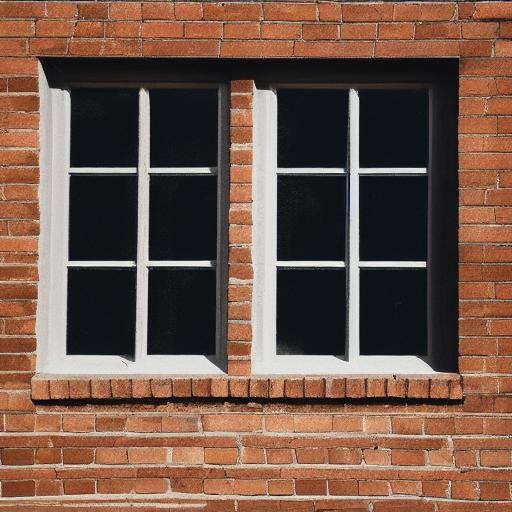Window: (28, 56, 466, 403)
